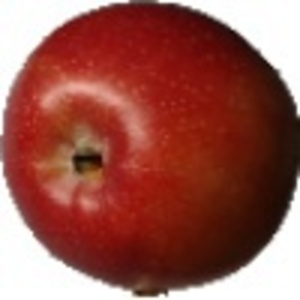maçã braeburn: (1, 3, 298, 295)
